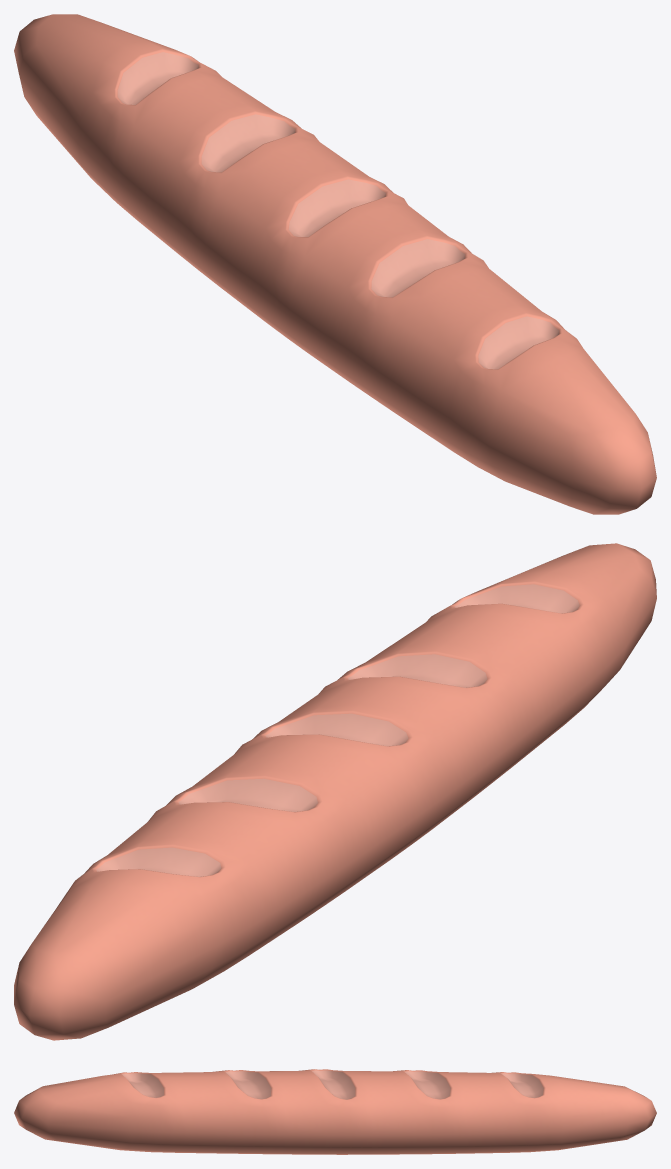
Rendered from SM_Bread.fbx.
3 renders of one model, top to bottom at view 1: azimuth 30°, elevation 25°; view 2: azimuth 150°, elevation 25°; view 3: azimuth 270°, elevation 25°, orthographic. The views are drawn at different scales.
Visible parts, largest first — view 1: SM_Bread; view 2: SM_Bread; view 3: SM_Bread.
Part boxes in pixels (x1,y1,x2,y2): SM_Bread: (14,14,656,514); SM_Bread: (14,543,656,1040); SM_Bread: (14,1069,656,1154).
Size of the model in its own units: 12.32 by 9.26 by 74.62.
